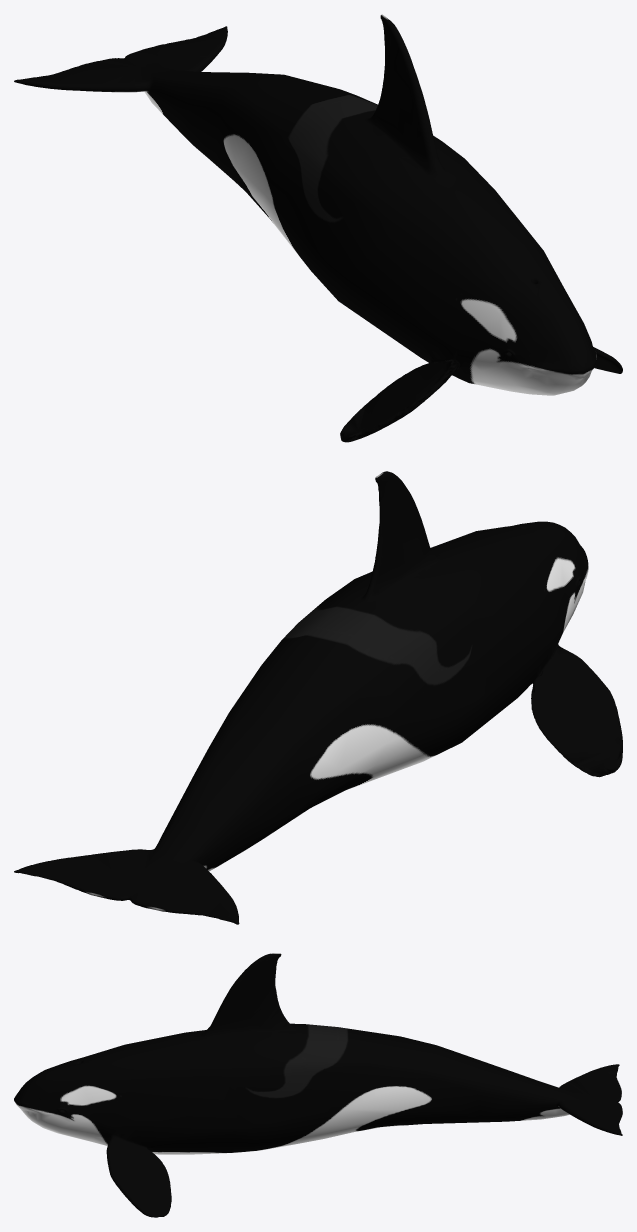
The model's file is orca1.fbx.
3 renders of one model, top to bottom at view 1: azimuth 30°, elevation 25°; view 2: azimuth 150°, elevation 25°; view 3: azimuth 270°, elevation 25°, orthographic. The views are drawn at different scales.
Visible parts, largest first — view 1: polySurface13; view 2: polySurface13; view 3: polySurface13.
Part boxes in pixels (left/top/right/bottom): polySurface13: left=14, top=14, right=622, bottom=442; polySurface13: left=14, top=471, right=622, bottom=924; polySurface13: left=14, top=953, right=622, bottom=1217.
Bounding box in the file's own units: 31.46 × 35.17 × 88.47.
Materials: 1 (1 with a texture image).
